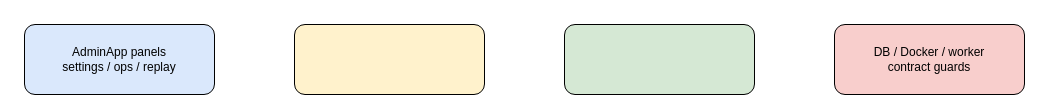
This 1042x112 diagram has some shape labels left out. The box of each missing label's shape, as (x1, y1, x2, y2) in pixels:
admin*.ts X-Admin-Token: (294, 24, 484, 94)
Puluj.Admin /api/admin/* server auth: (564, 24, 754, 94)
